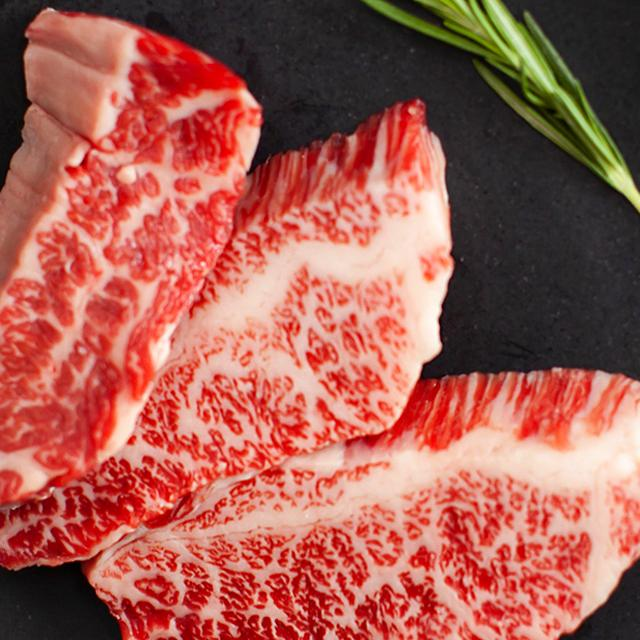beef: (131, 298, 411, 640)
